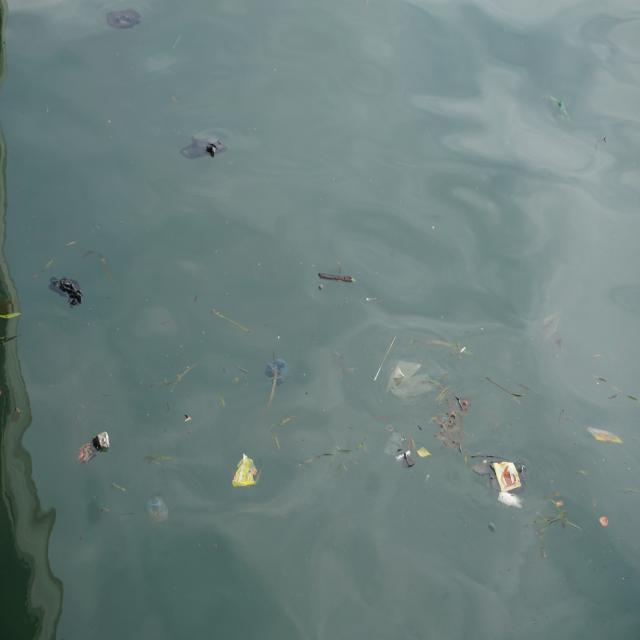Bungkus Makanan: (233, 453, 260, 490)
Bungkus Minuman: (77, 432, 113, 466), (494, 459, 524, 492), (149, 494, 171, 527)
Kantong Plastik: (386, 359, 439, 404), (181, 134, 230, 163), (49, 275, 87, 311), (264, 357, 290, 390), (385, 430, 404, 460)
